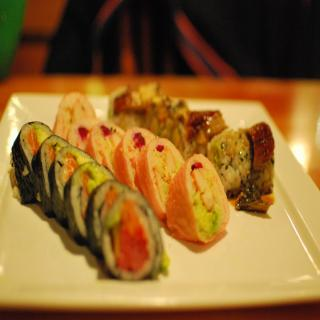Sushi: (10, 83, 276, 280), (97, 191, 172, 277), (168, 152, 230, 252)
